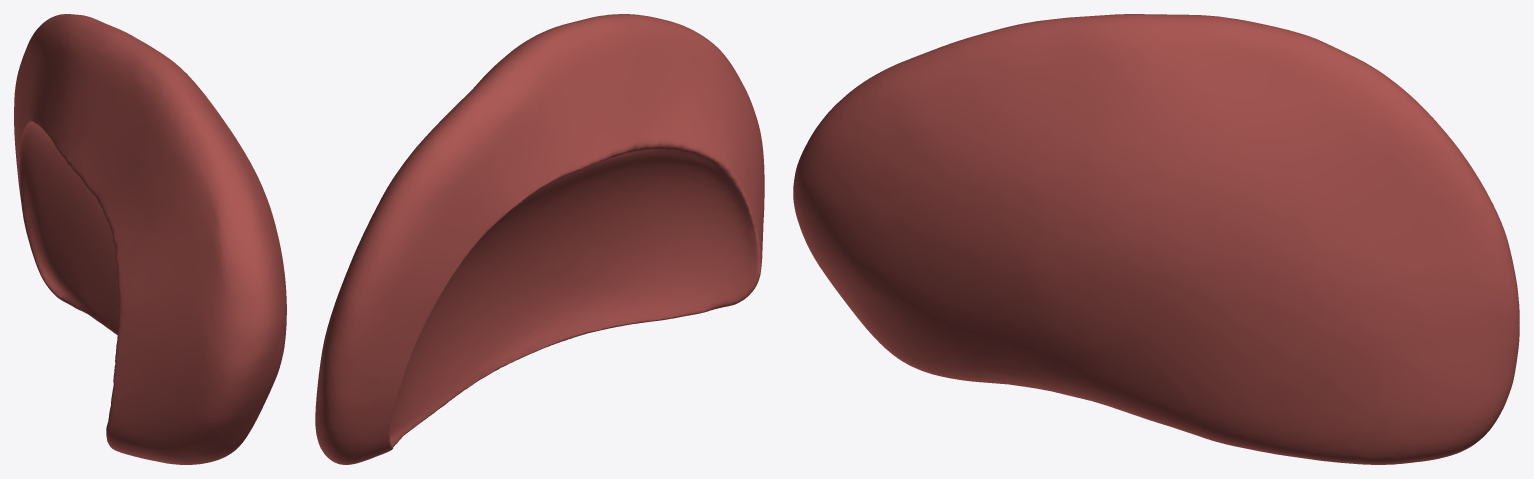
The model's file is FMA72829.glb.
3 views of the same model, side by side, from view 1: azimuth 30°, elevation 25°; view 2: azimuth 150°, elevation 25°; view 3: azimuth 270°, elevation 25° (orthographic). The views are drawn at different scales.
Visible parts, largest first — view 1: FMA72829; view 2: FMA72829; view 3: FMA72829.
Part boxes in pixels (x1,y1,x2,y2): FMA72829: (14, 14, 286, 464); FMA72829: (315, 14, 764, 464); FMA72829: (793, 14, 1519, 464).
Size of the model in its own units: 0.0172 by 0.0247 by 0.0404.
